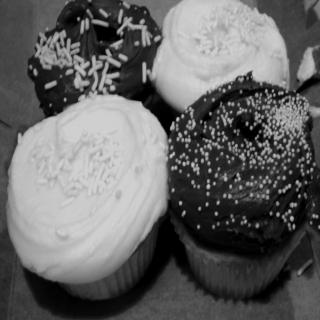Cake: (3, 91, 164, 316), (170, 69, 318, 301), (149, 0, 290, 114), (26, 0, 162, 105)
Muffin: (4, 90, 170, 318), (167, 67, 320, 296), (147, 0, 290, 116), (27, 0, 164, 119)
